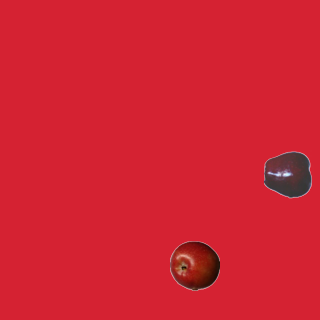Apple Braeburn: (169, 240, 219, 290)
Apple Red Delicious: (263, 149, 313, 199)
